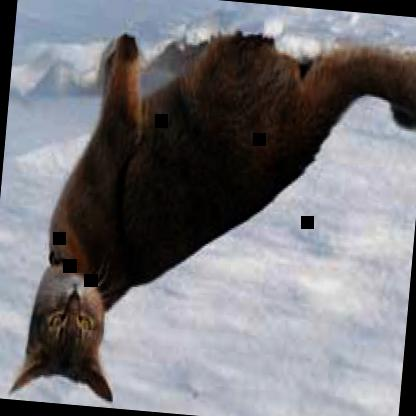cat: (8, 9, 415, 415)
